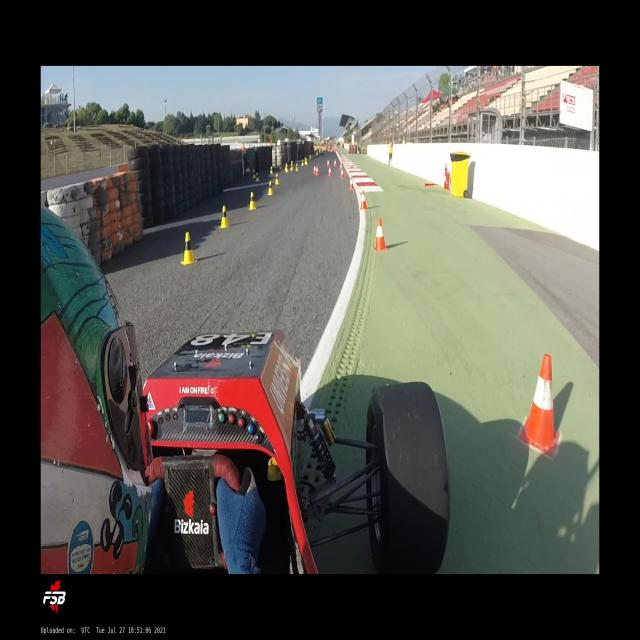orange_cone: (519, 355, 559, 458), (374, 218, 387, 251), (360, 190, 367, 210), (348, 177, 354, 190), (328, 166, 332, 177), (341, 168, 344, 178), (313, 164, 316, 174), (350, 161, 353, 168), (327, 159, 330, 166), (316, 166, 318, 176), (340, 163, 342, 170), (334, 160, 336, 167)
yellow_cone: (181, 232, 197, 264), (219, 206, 229, 228), (248, 191, 256, 210), (268, 181, 274, 195), (275, 173, 279, 185), (256, 172, 259, 182), (252, 170, 255, 178), (290, 163, 293, 171), (295, 163, 298, 171), (270, 167, 273, 174), (301, 159, 304, 166), (286, 165, 288, 172), (285, 163, 286, 170)
